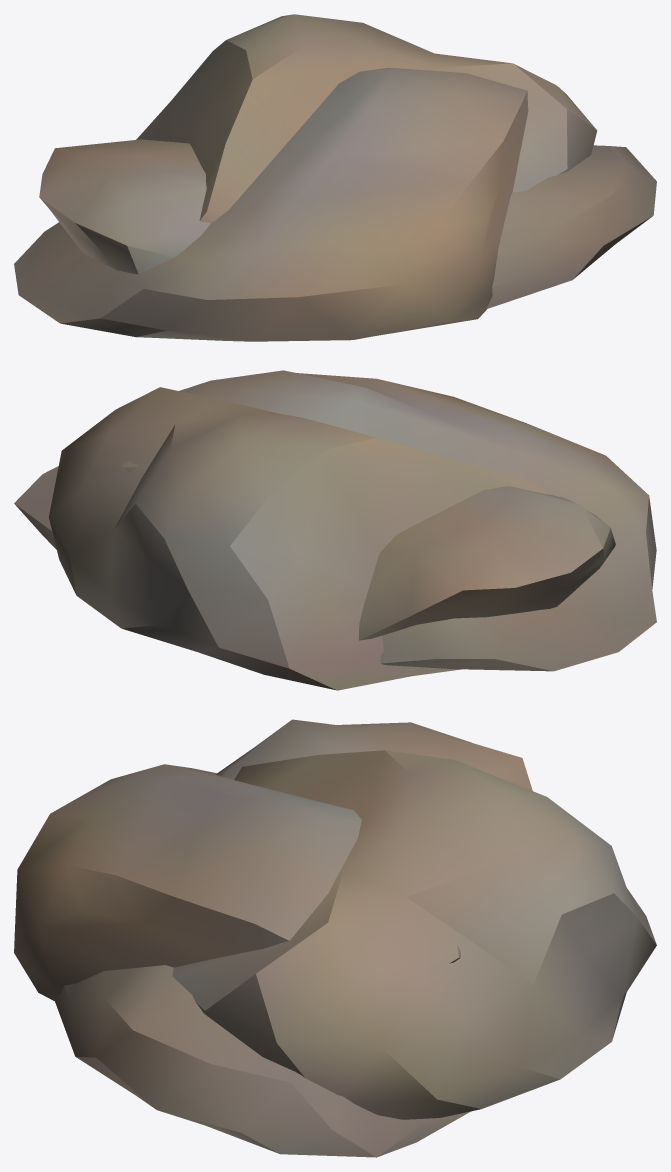
File: rock.glb
3 views of the same model, one above another, from view 1: azimuth 30°, elevation 25°; view 2: azimuth 150°, elevation 25°; view 3: azimuth 270°, elevation 25° (orthographic). The views are drawn at different scales.
Parts seen in each view (by area): view 1: rock0, rock2, rock1; view 2: rock1, rock0, rock2; view 3: rock1, rock0, rock2.
Boxes of the visible parts, <box> form: rock0: <box>14,67,528,341</box>; rock2: <box>39,139,656,308</box>; rock1: <box>136,14,597,222</box>; rock1: <box>48,387,548,690</box>; rock0: <box>121,370,656,671</box>; rock2: <box>14,466,615,640</box>; rock1: <box>172,750,656,1119</box>; rock0: <box>14,764,460,1000</box>; rock2: <box>54,719,532,1157</box>.
Bounding box in the file's own units: 1.22 × 0.3513 × 0.9288.
